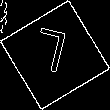L_S: (34, 27, 76, 83)
